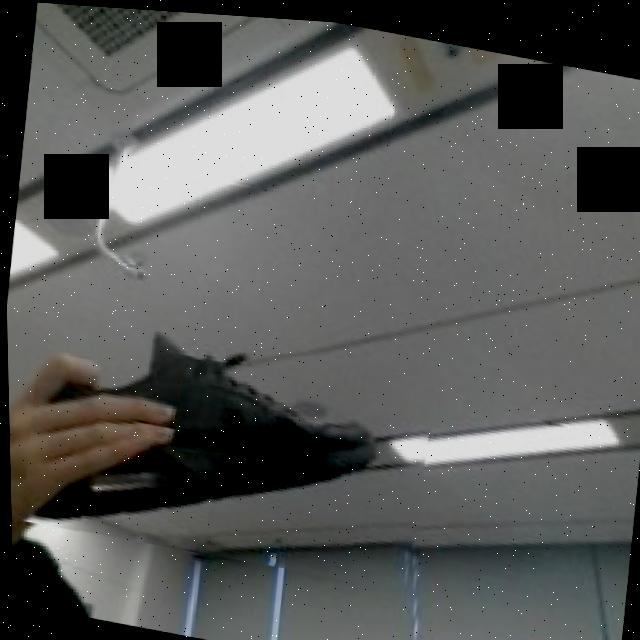shoe: (14, 305, 439, 590)
